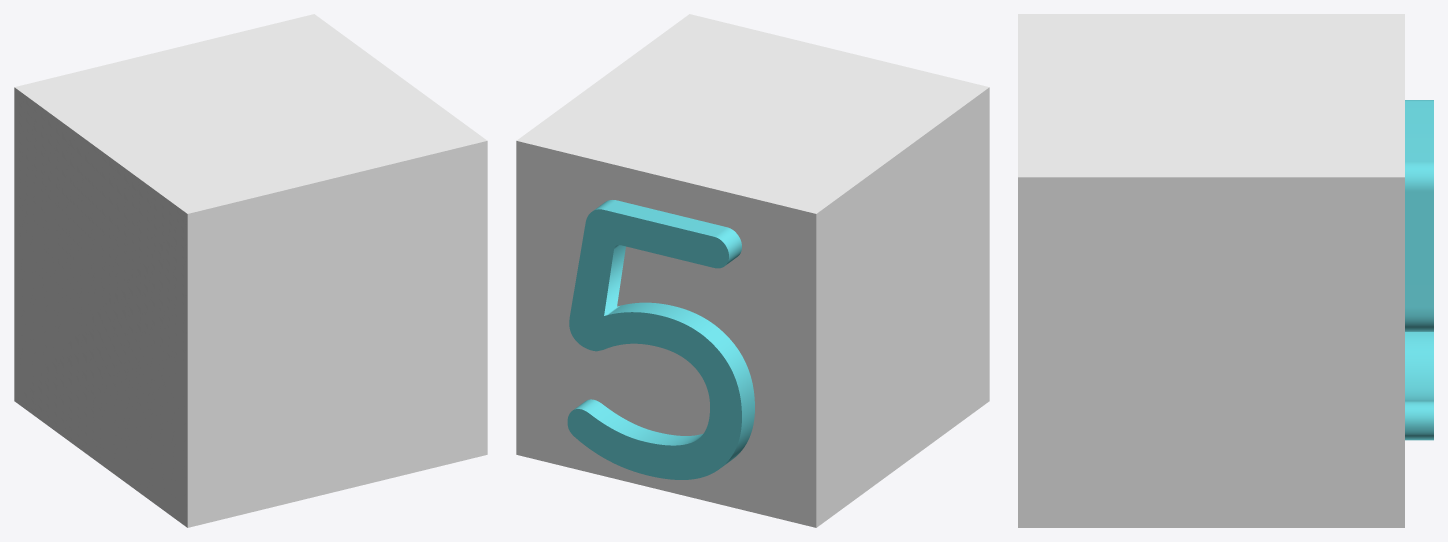
File: stage5.obj
3 views of the same model, side by side, from view 1: azimuth 30°, elevation 25°; view 2: azimuth 150°, elevation 25°; view 3: azimuth 270°, elevation 25° (orthographic). The views are drawn at different scales.
Visible parts, largest first — view 1: Cube; view 2: Cube, テキスト; view 3: Cube, テキスト.
Part boxes in pixels (box(x1,y1,x2,y2)): Cube: box(14, 14, 487, 527); Cube: box(516, 14, 989, 527); テキスト: box(567, 200, 754, 479); Cube: box(1018, 14, 1404, 527); テキスト: box(1405, 100, 1433, 440).
Size of the model in its own units: 2 by 2 by 2.15.
1 material, 1 textured.
